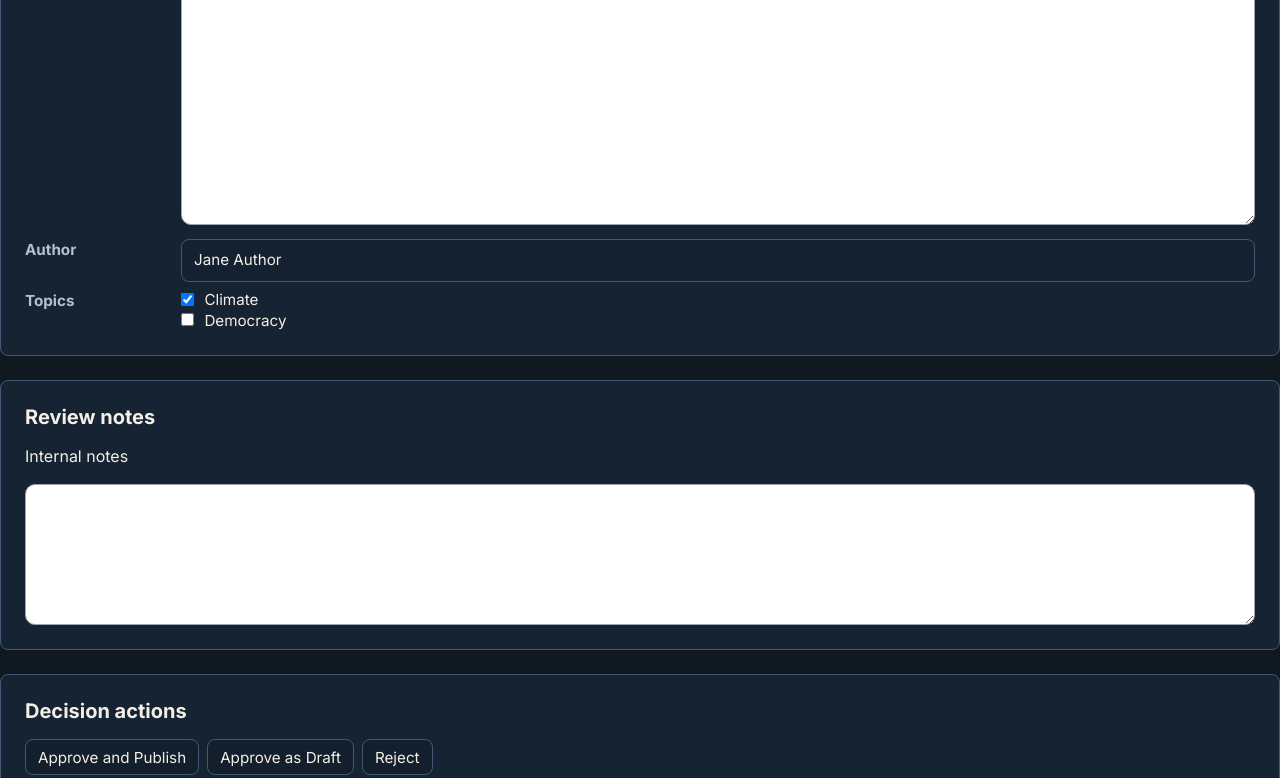
Test: SubmissionReviewPageContent › maps article API validation errors to inline review fields
This screenshot has width=1280, height=778.
(page scrolled)
Click the button "Approve and Publish" at point(112, 758), box [25,740,199,776]
(page scrolled)
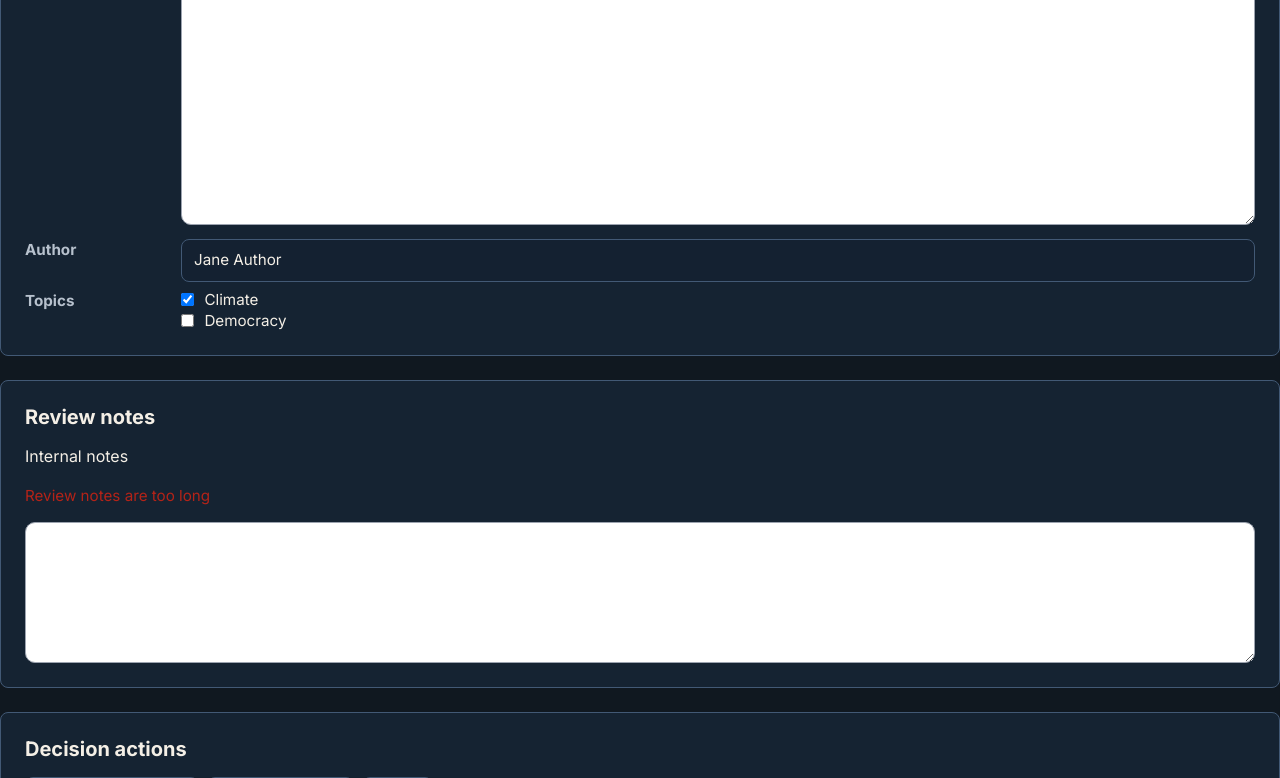
Expected: the text "Review notes are too long" is shown, [25,486,210,505]
